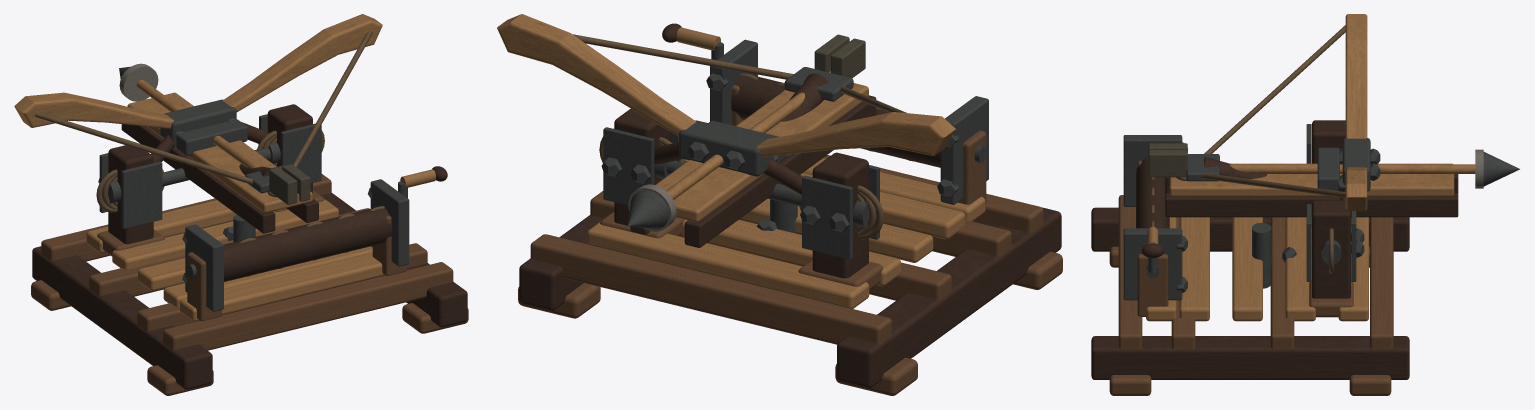
File: ballista.glb
3 views of the same model, side by side, from view 1: azimuth 30°, elevation 25°; view 2: azimuth 150°, elevation 25°; view 3: azimuth 270°, elevation 25° (orthographic). The views are drawn at different scales.
Visible parts, largest first — view 1: ballista; view 2: ballista; view 3: ballista.
Boxes of the visible parts, <box> form: ballista: <box>14,14,468,395</box>; ballista: <box>497,14,1062,395</box>; ballista: <box>1091,14,1519,395</box>.
Size of the model in its own units: 2.8 by 1.6 by 2.8.
Materials: 1 (1 with a texture image).
